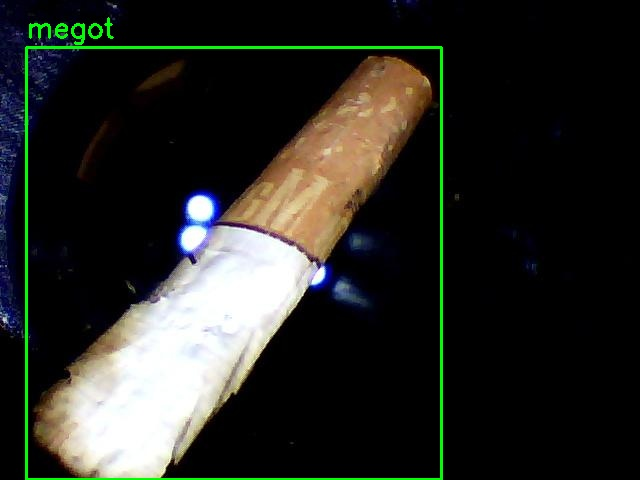megot: (26, 47, 441, 479)
